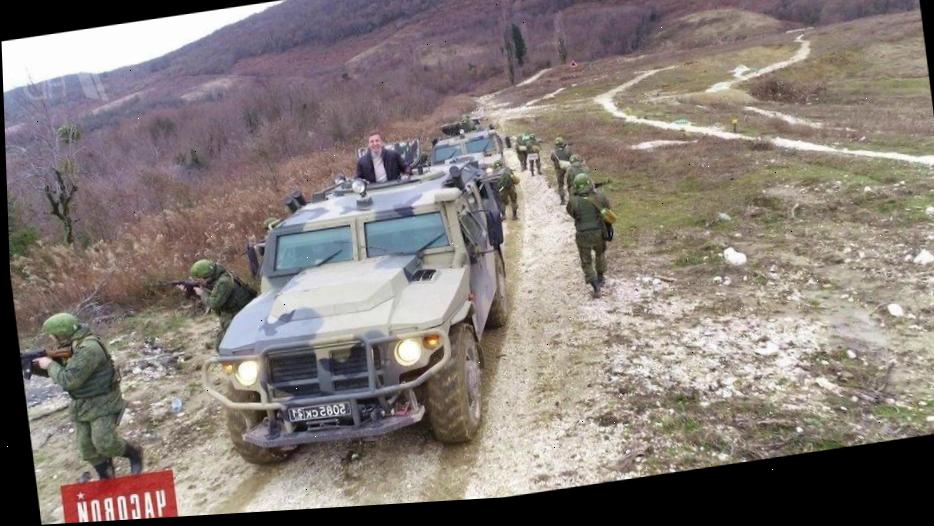armored_car: (173, 124, 529, 481), (425, 113, 510, 214)
person: (26, 300, 145, 487), (172, 250, 264, 360), (560, 167, 621, 302), (546, 132, 576, 205), (490, 156, 519, 220), (562, 151, 590, 194), (523, 131, 544, 176), (513, 132, 529, 170), (457, 112, 475, 132)
